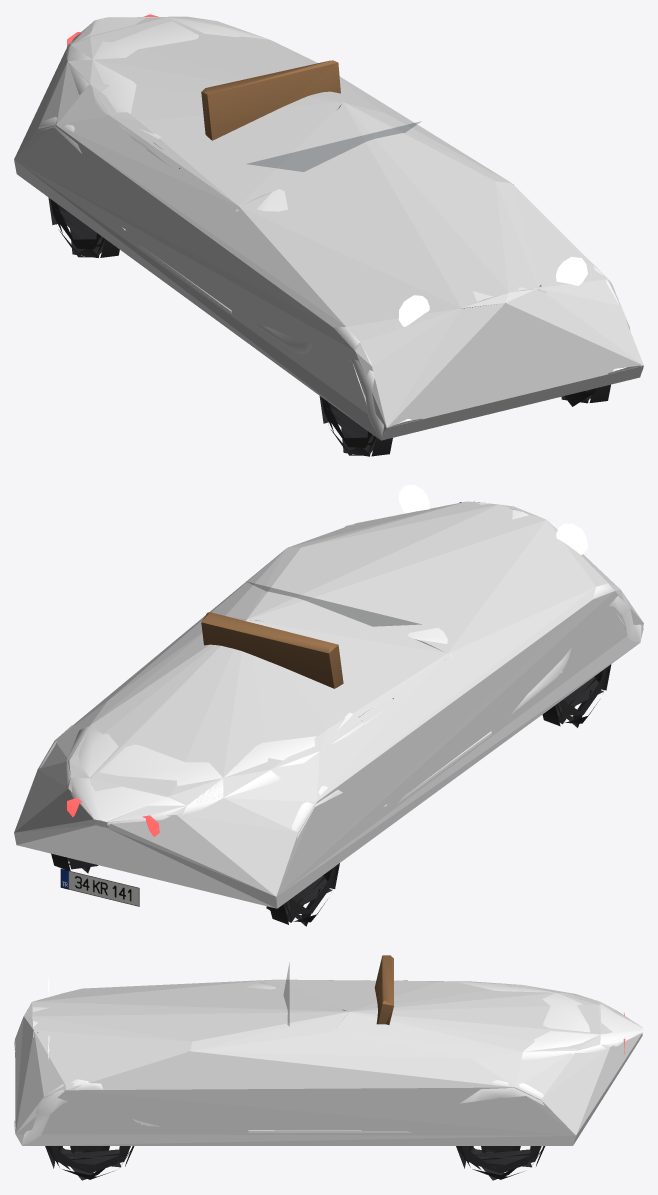
The model's file is bosfor_kartal_lod2.glb.
3 renders of one model, top to bottom at view 1: azimuth 30°, elevation 25°; view 2: azimuth 150°, elevation 25°; view 3: azimuth 270°, elevation 25°, orthographic. The views are drawn at different scales.
Parts seen in each view (by area): view 1: col_body, body, interior, glass, wheel_FR, wheel_RR, lights_front; view 2: col_body, body, interior, wheel_RR, wheel_FR, plate_rear, lights_front, glass; view 3: col_body, body, wheel_FL, wheel_RL, interior.
Boxes of the visible parts, x1,y1,x2,y2 form: col_body: [14, 16, 643, 440]; body: [36, 16, 643, 439]; interior: [153, 60, 340, 148]; glass: [248, 121, 421, 171]; wheel_FR: [319, 396, 392, 456]; wheel_RR: [48, 197, 119, 257]; lights_front: [398, 256, 587, 326]; col_body: [14, 501, 643, 908]; body: [39, 501, 643, 838]; interior: [201, 612, 365, 717]; wheel_RR: [266, 863, 339, 926]; wheel_FR: [542, 664, 611, 727]; plate_rear: [60, 869, 139, 906]; lights_front: [399, 485, 588, 554]; glass: [248, 582, 421, 626]; col_body: [15, 979, 642, 1145]; body: [14, 981, 642, 1145]; wheel_FL: [45, 1146, 134, 1180]; wheel_RL: [456, 1146, 545, 1180]; interior: [374, 955, 407, 1024].
Size of the model in its own units: 1.73 by 1.33 by 4.75.
9 materials, 1 textured.
